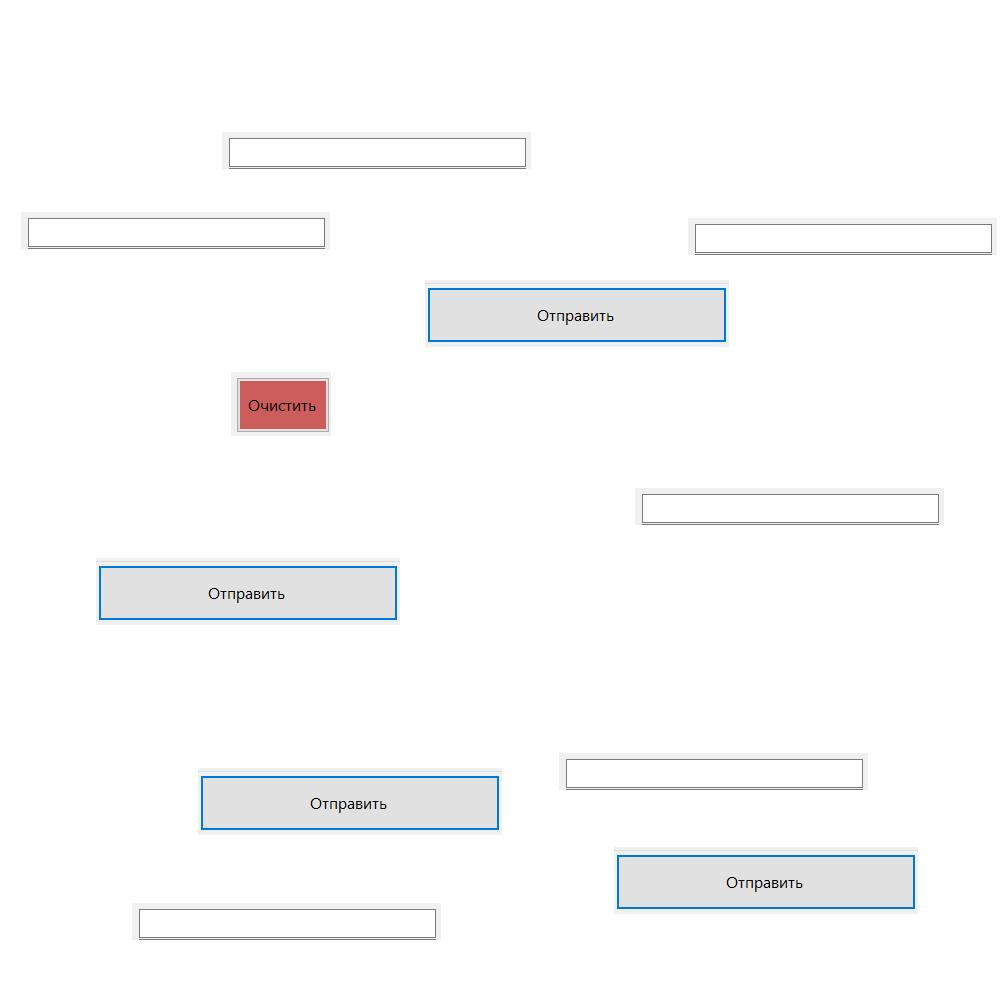Button: (614, 847, 918, 914), (96, 558, 400, 625), (425, 280, 729, 347), (198, 768, 502, 835), (231, 372, 331, 436)
EditText-: (21, 212, 330, 249), (132, 903, 441, 940), (688, 218, 997, 255), (559, 753, 868, 790), (222, 132, 531, 169), (635, 488, 944, 525)
